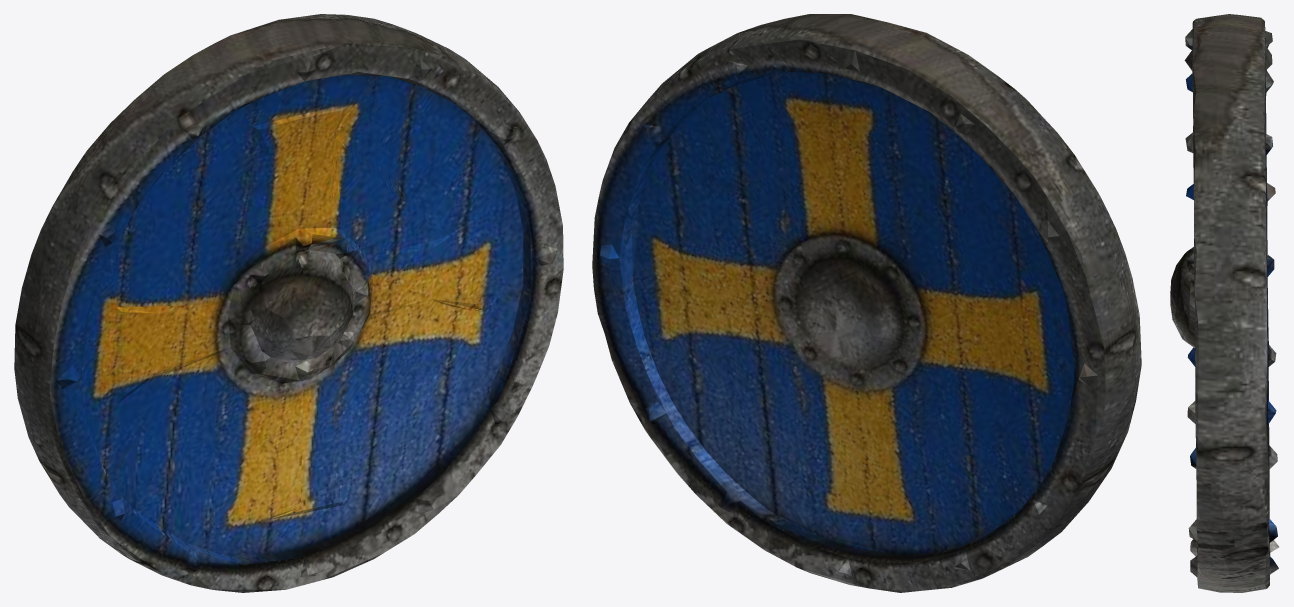
The model's file is shield.glb.
3 renders of one model, left to right at view 1: azimuth 30°, elevation 25°; view 2: azimuth 150°, elevation 25°; view 3: azimuth 270°, elevation 25°, orthographic. The views are drawn at different scales.
Parts seen in each view (by area): view 1: geometry_0; view 2: geometry_0; view 3: geometry_0.
Boxes of the visible parts, left/top/right/bottom form: geometry_0: left=14, top=14, right=563, bottom=592; geometry_0: left=592, top=14, right=1141, bottom=592; geometry_0: left=1170, top=14, right=1279, bottom=592.
Bounding box in the file's own units: 0.8498 × 0.8491 × 0.1603.
1 material, 1 textured.
